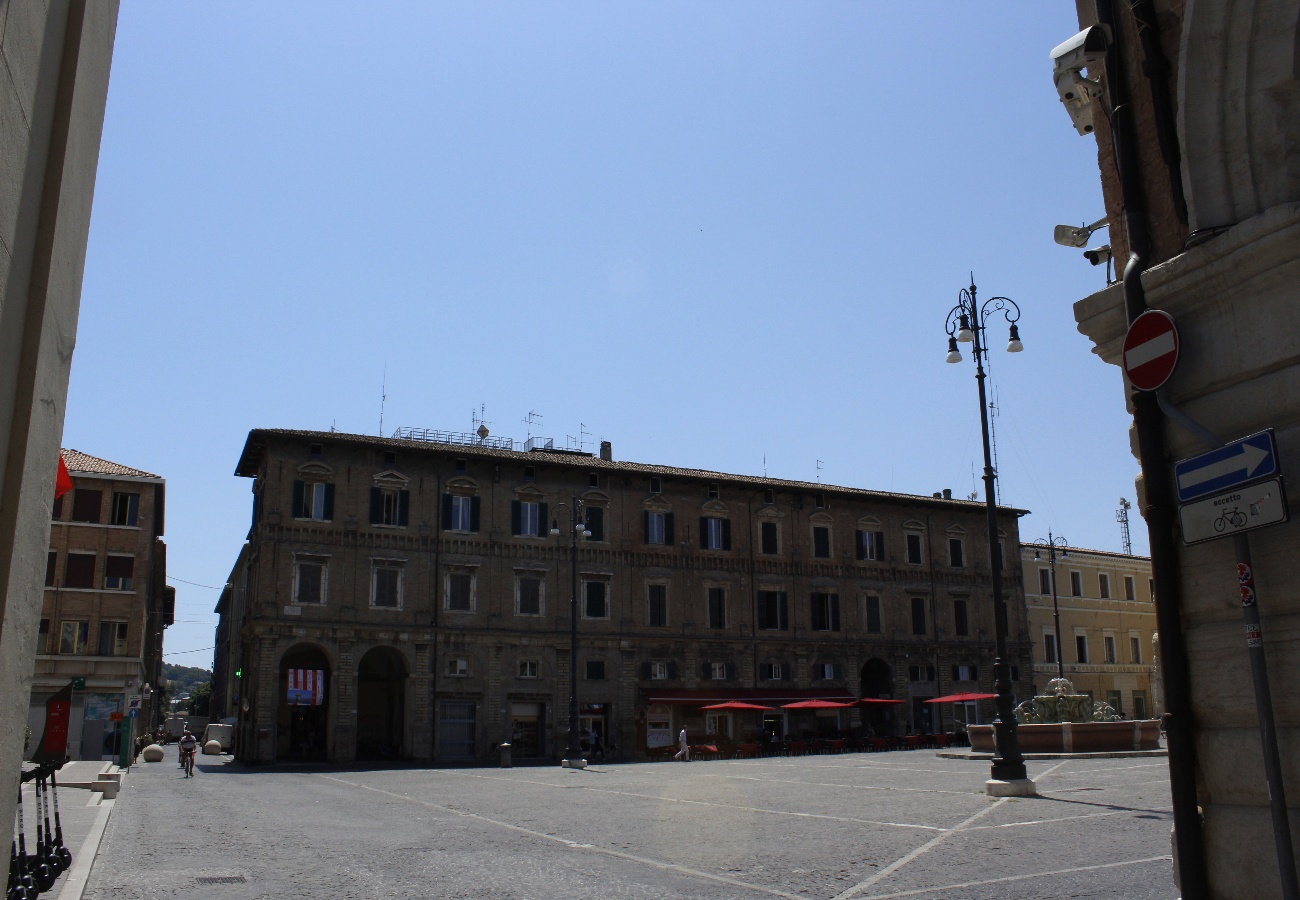Palazzo Baviera: (239, 432, 1022, 756)
